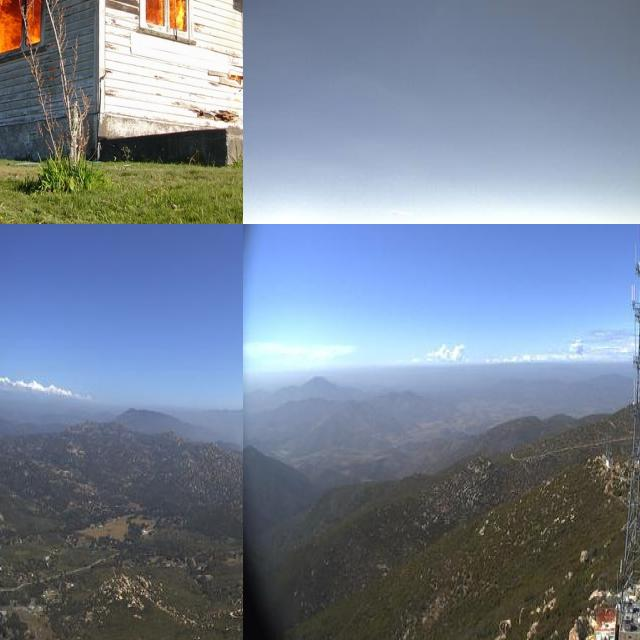fire: (122, 0, 238, 47), (0, 0, 43, 55)
